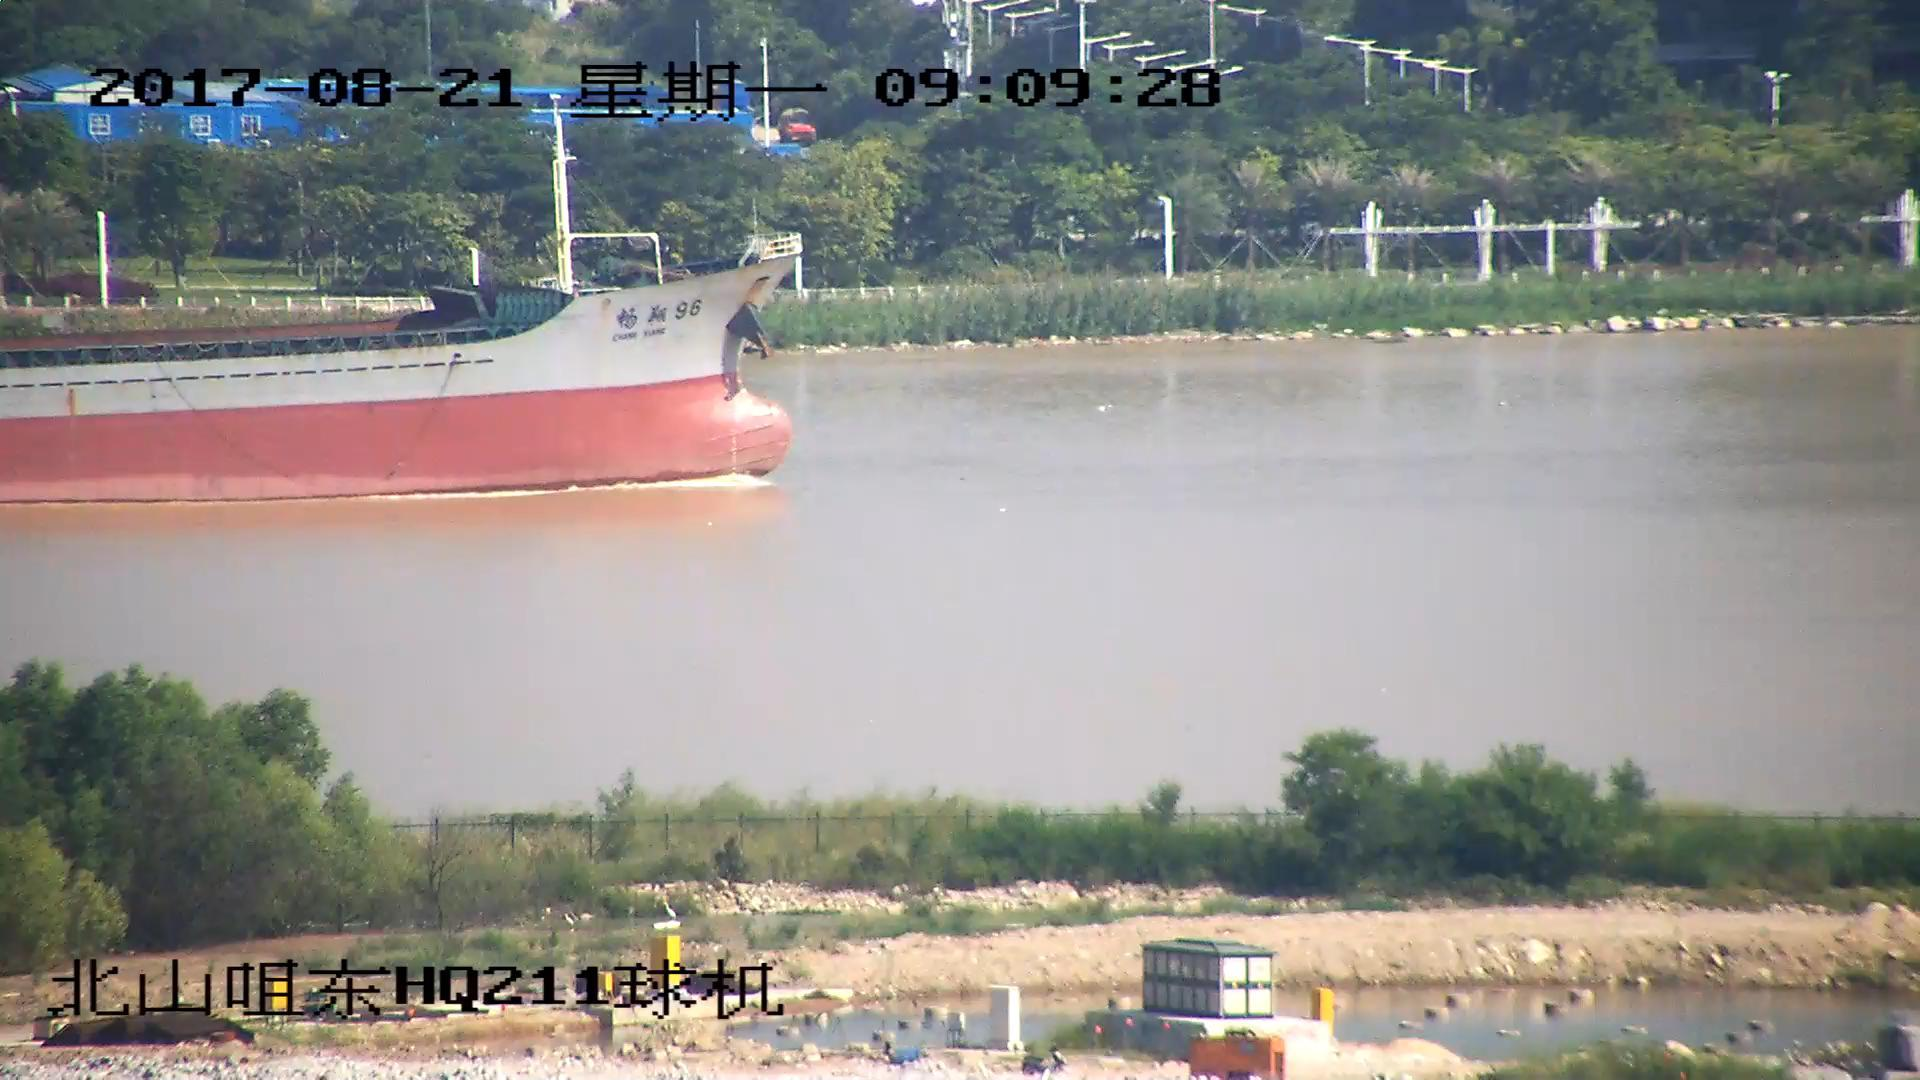Ship: (3, 117, 818, 510)
